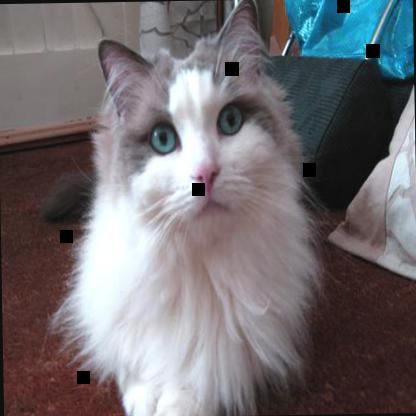cat: (33, 0, 327, 415)
